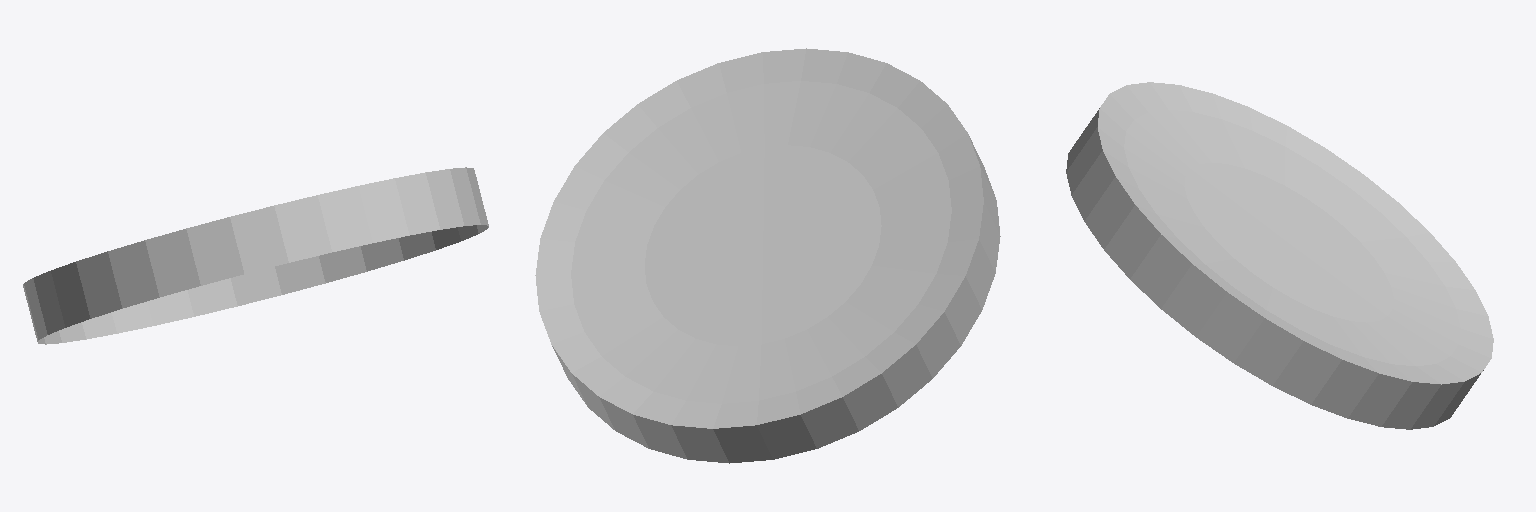
Rendered from oculus_quest_pro_controller_right_button_menu.obj.
3 renders of one model, left to right at view 1: azimuth 30°, elevation 25°; view 2: azimuth 150°, elevation 25°; view 3: azimuth 270°, elevation 25°, orthographic.
Visible parts, largest first — view 1: oculus_quest_pro_controller_right_button_menu; view 2: oculus_quest_pro_controller_right_button_menu; view 3: oculus_quest_pro_controller_right_button_menu.
Boxes of the visible parts, <box> form: oculus_quest_pro_controller_right_button_menu: <box>23,167,488,344</box>; oculus_quest_pro_controller_right_button_menu: <box>535,48,1000,463</box>; oculus_quest_pro_controller_right_button_menu: <box>1066,82,1493,429</box>.
Size of the model in its own units: 0.009 by 0.0057 by 0.0082.